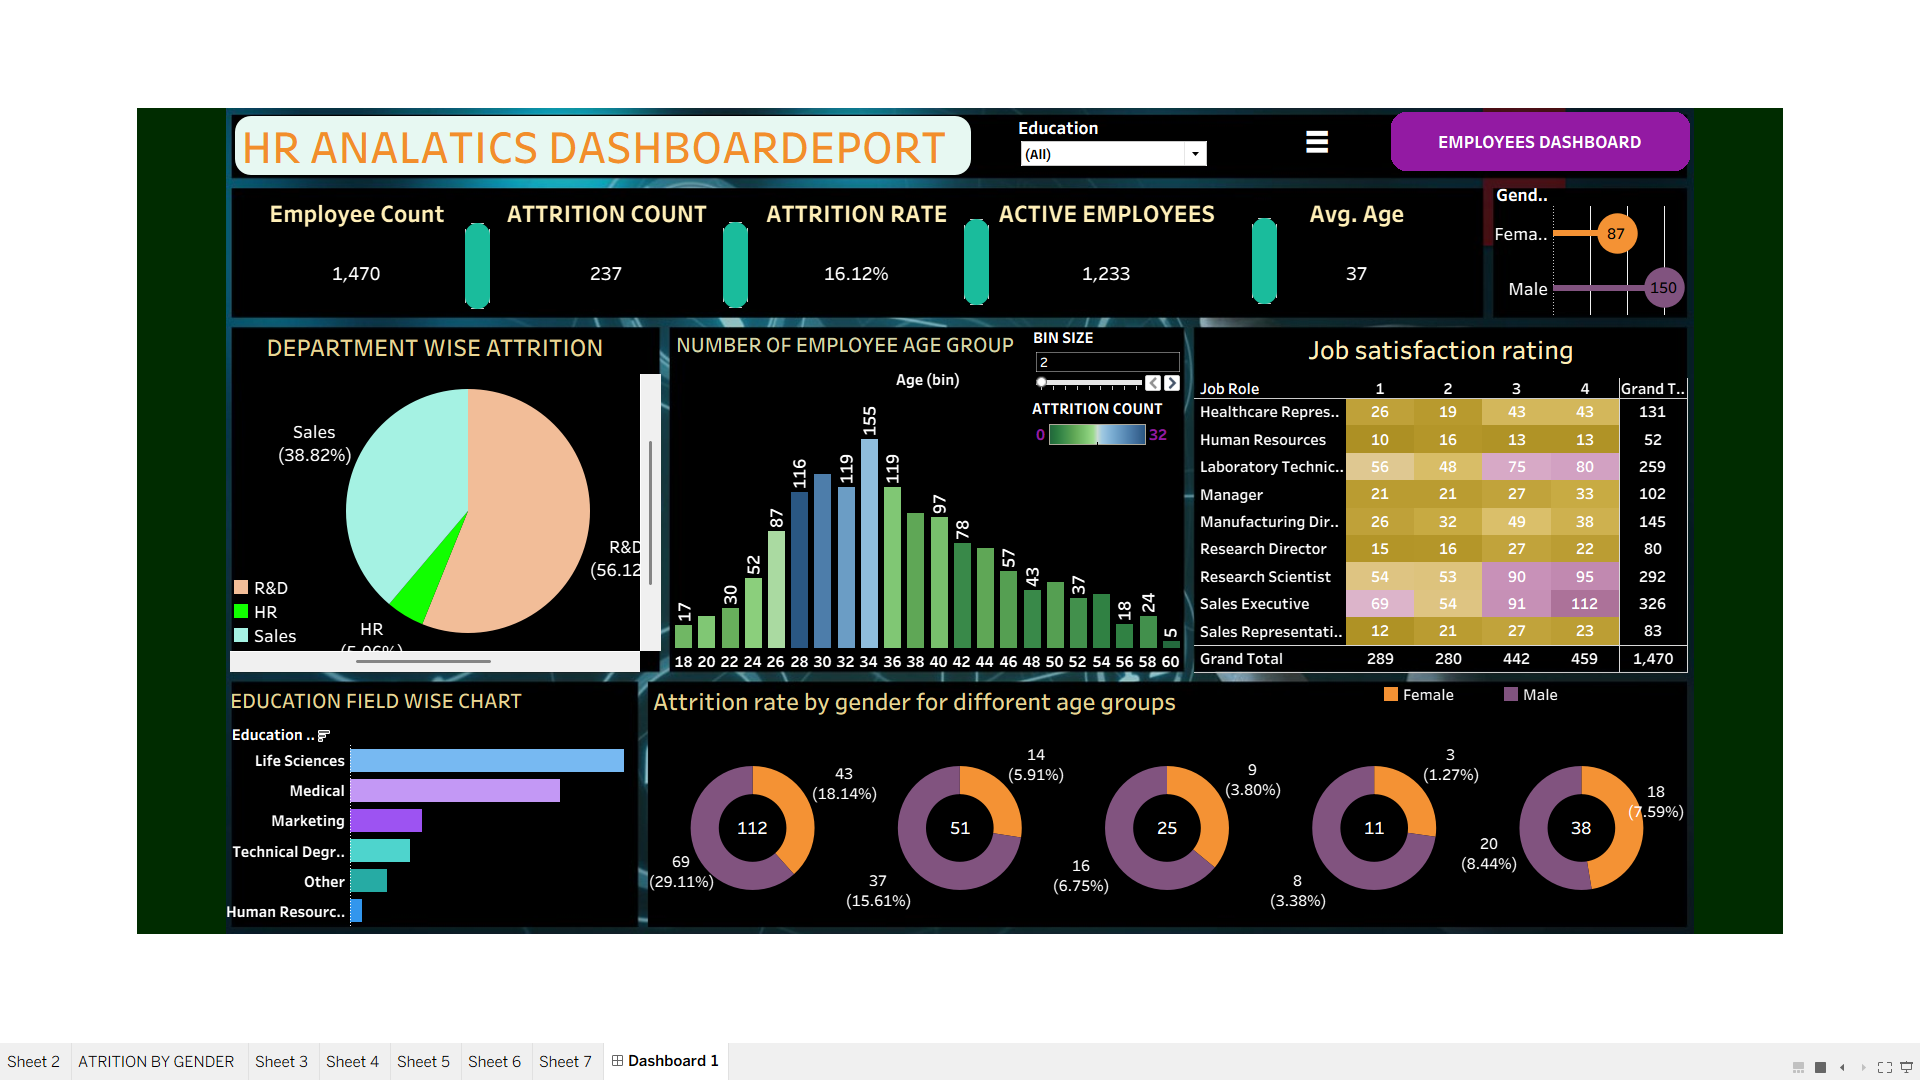

This screenshot's page, from the dashboard's own definition file:
{"tool":"tableau","page":{"name":"Dashboard 1","canvas":[1670,850],"ordinal":0},"visuals":[{"type":"image","param":"Image/HR background.jpg","box":[8,8,1654,834]},{"type":"dashboard-object","box":[1263,13,305,65]},{"type":"text","box":[107,17,742,65]},{"type":"filter","title":"Sheet 7","param":"[federated.12rzoy219m3oqs1cq712x1f0sd2l].[none:Education:nk]","box":[893,20,192,52]},{"type":"text","box":[1176,31,100,30]},{"type":"worksheet","title":"ATRITION BY GENDER","mark":"Automatic","rows":["Gender"],"cols":["Calculation_0852178977935362","Calculation_0852178977935362"],"box":[1368,90,197,129]},{"type":"worksheet","title":"Sheet 2","mark":"Automatic","box":[107,93,1250,129]},{"type":"worksheet","title":"Sheet 4","mark":"Automatic","rows":["Employee Count"],"cols":["Age (bin)"],"box":[547,230,512,347]},{"type":"worksheet","title":"Sheet 3","mark":"Pie","box":[105,231,431,345]},{"type":"parameter","param":"[Parameters].[Parameter 1]","box":[908,231,150,71]},{"type":"worksheet","title":"Sheet 5","mark":"Square","rows":["Job Role"],"cols":["Job Satisfaction"],"box":[1069,232,494,345]},{"type":"legend","title":"Sheet 4","param":"[federated.12rzoy219m3oqs1cq712x1f0sd2l].[sum:Calculation_0852178977935362:qk]","box":[907,302,140,88]},{"type":"legend","title":"Sheet 3","param":"[federated.12rzoy219m3oqs1cq712x1f0sd2l].[none:Department:nk]","box":[104,479,90,85]},{"type":"worksheet","title":"Sheet 7","mark":"Pie","rows":["Calculation_1079504409116675","Calculation_1079504409116675"],"cols":["CF_age band"],"box":[524,585,1036,247]},{"type":"worksheet","title":"Sheet 6","mark":"Bar","rows":["Education Field"],"cols":["Employee Count"],"box":[101,586,412,244]},{"type":"legend","title":"Sheet 7","param":"[federated.12rzoy219m3oqs1cq712x1f0sd2l].[none:Gender:nk]","box":[1256,588,247,50]}]}

Visuals, with their boxes on the page's 1670x850 design canvas (x1, y1, x2, y2). These are canvas units, not pixel positions in the 1920x1080 screenshot, which may show the page scaled, cropped or inside an application window:
image: box=[8, 8, 1662, 842]
dashboard-object: box=[1263, 13, 1568, 78]
text: box=[107, 17, 849, 82]
"Sheet 7" filter: box=[893, 20, 1085, 72]
text: box=[1176, 31, 1276, 61]
"ATRITION BY GENDER" worksheet: box=[1368, 90, 1565, 219]
"Sheet 2" worksheet: box=[107, 93, 1357, 222]
"Sheet 4" worksheet: box=[547, 230, 1059, 577]
"Sheet 3" worksheet (Pie marks): box=[105, 231, 536, 576]
parameter: box=[908, 231, 1058, 302]
"Sheet 5" worksheet (Square marks): box=[1069, 232, 1563, 577]
"Sheet 4" legend: box=[907, 302, 1047, 390]
"Sheet 3" legend: box=[104, 479, 194, 564]
"Sheet 7" worksheet (Pie marks): box=[524, 585, 1560, 832]
"Sheet 6" worksheet (Bar marks): box=[101, 586, 513, 830]
"Sheet 7" legend: box=[1256, 588, 1503, 638]
